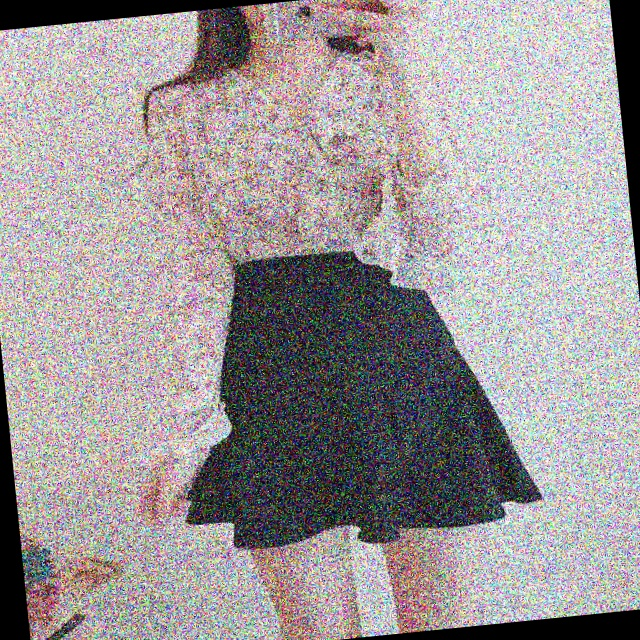Miniskirt: (154, 231, 557, 640)
